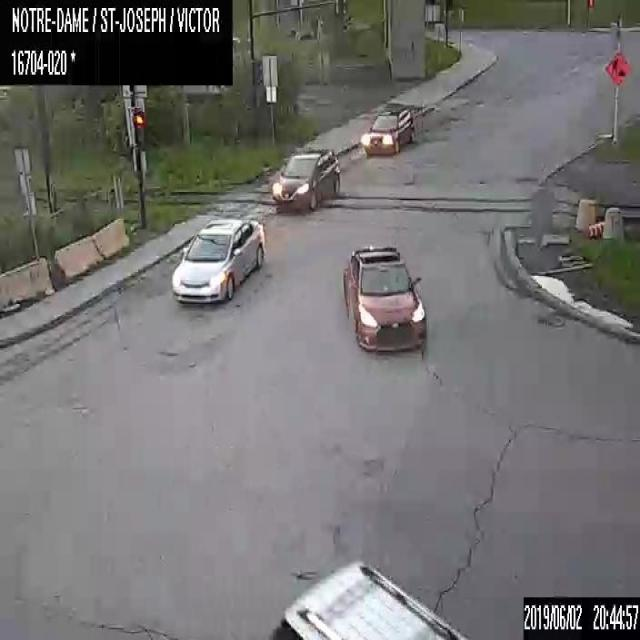construction: (604, 50, 631, 87), (588, 222, 603, 236)
vehicle: (268, 558, 470, 638), (341, 245, 427, 355), (172, 218, 264, 306), (272, 148, 340, 212), (360, 105, 413, 156)
